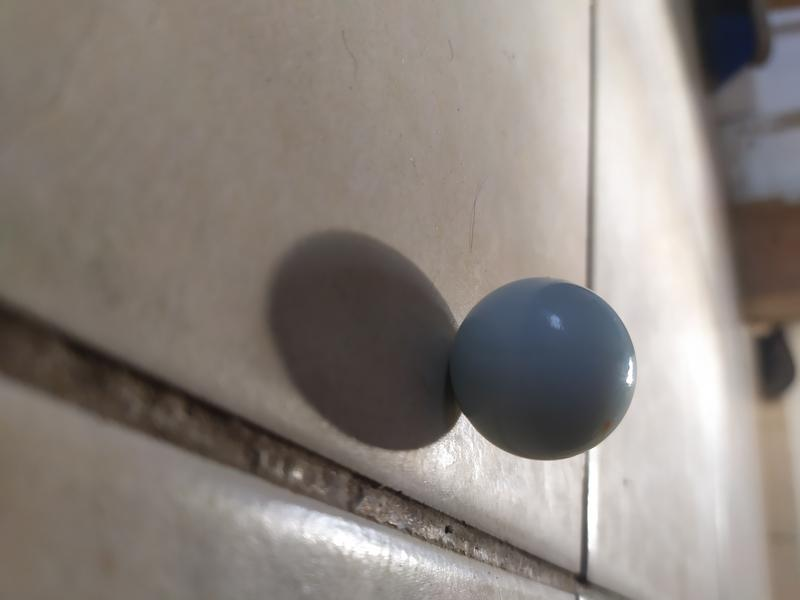Warning: (438, 269, 643, 466)
